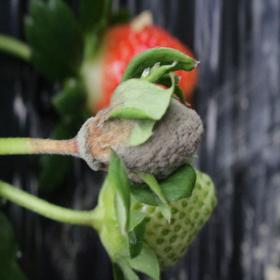Gray Mold: (66, 91, 204, 183)
